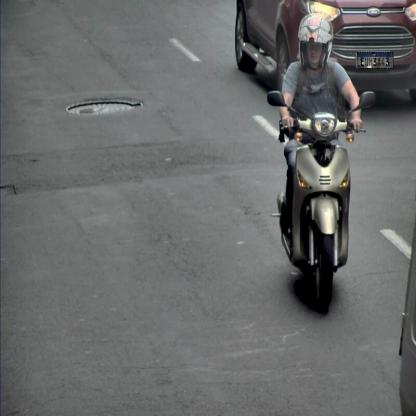PlacaM: (356, 52, 394, 69)
